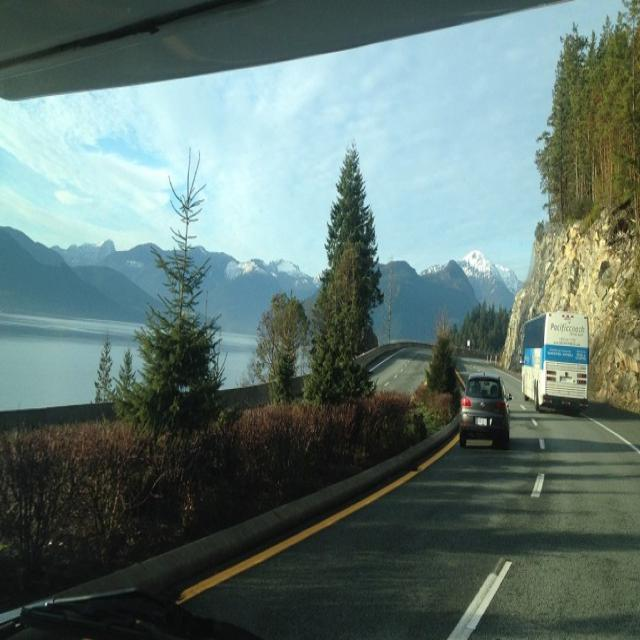car: (456, 363, 518, 447)
